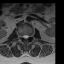CCS_normal: (24, 33, 26, 41)
LFS_stenosis: (28, 33, 31, 38)
LLS_normal: (26, 33, 28, 40)
RFS_normal: (20, 33, 22, 40)
RLS_normal: (22, 33, 24, 39)
